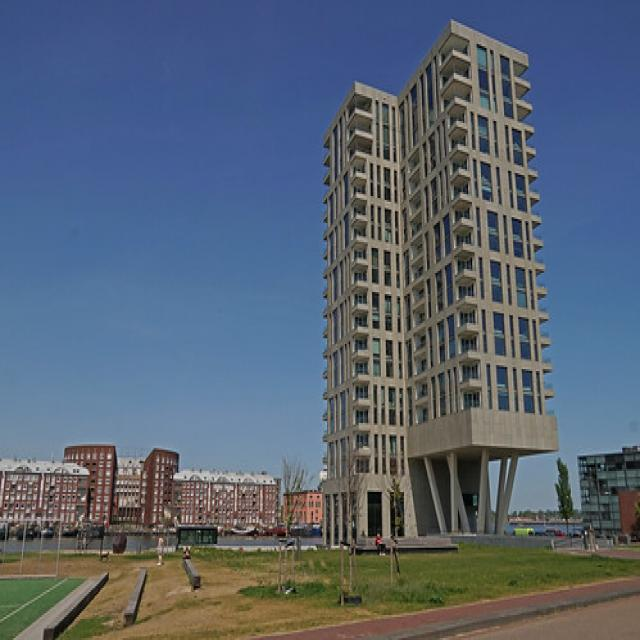Normal_building: (312, 12, 564, 550)
